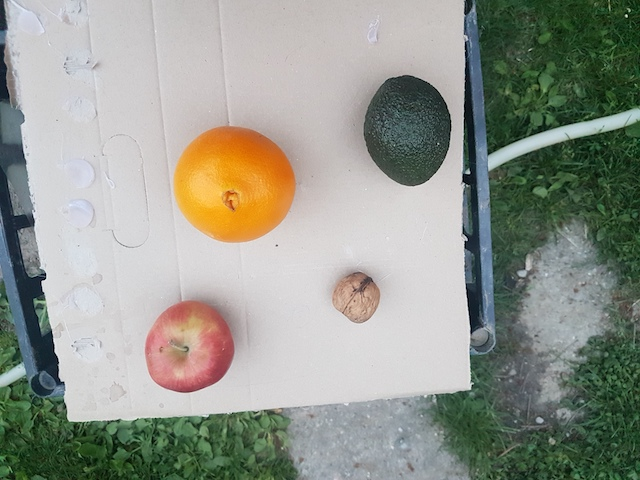apple: (145, 301, 235, 392)
avocado: (361, 76, 453, 191)
nut: (333, 271, 384, 326)
orange: (170, 122, 297, 244)
